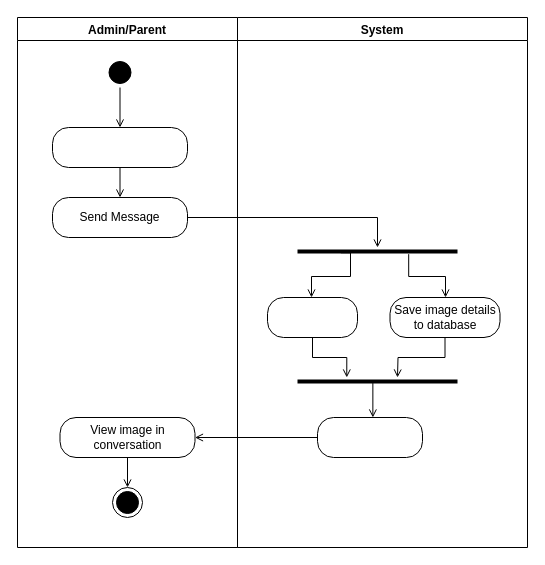
The diagram is 545 pixels wide and 565 high, and some of its shapes have lost their labels. Here are the shapes that lost their labels. From the top down, the centre of each, then its label:
point (120, 147): Attach Image
point (312, 317): Save image to web file
point (369, 437): Show image
